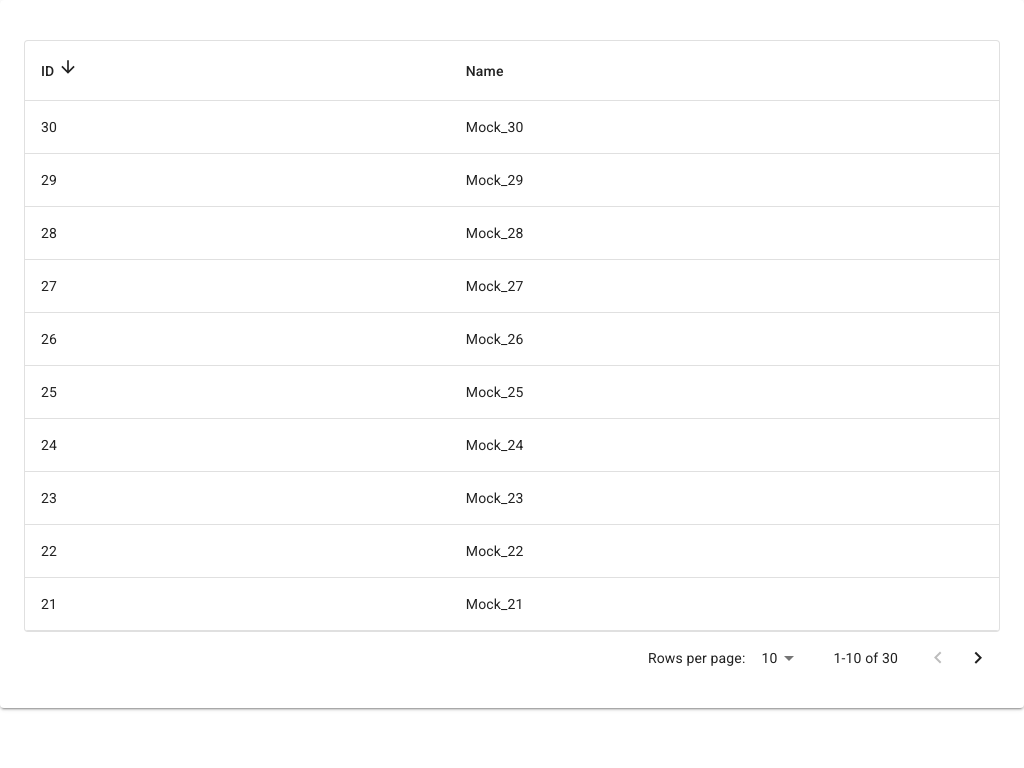
Test: DataTable › Pagination › changes page size correctly
Press the mouse on the dropdown named "Rows per page:" at x=770, y=658, box [762,650,778,666]
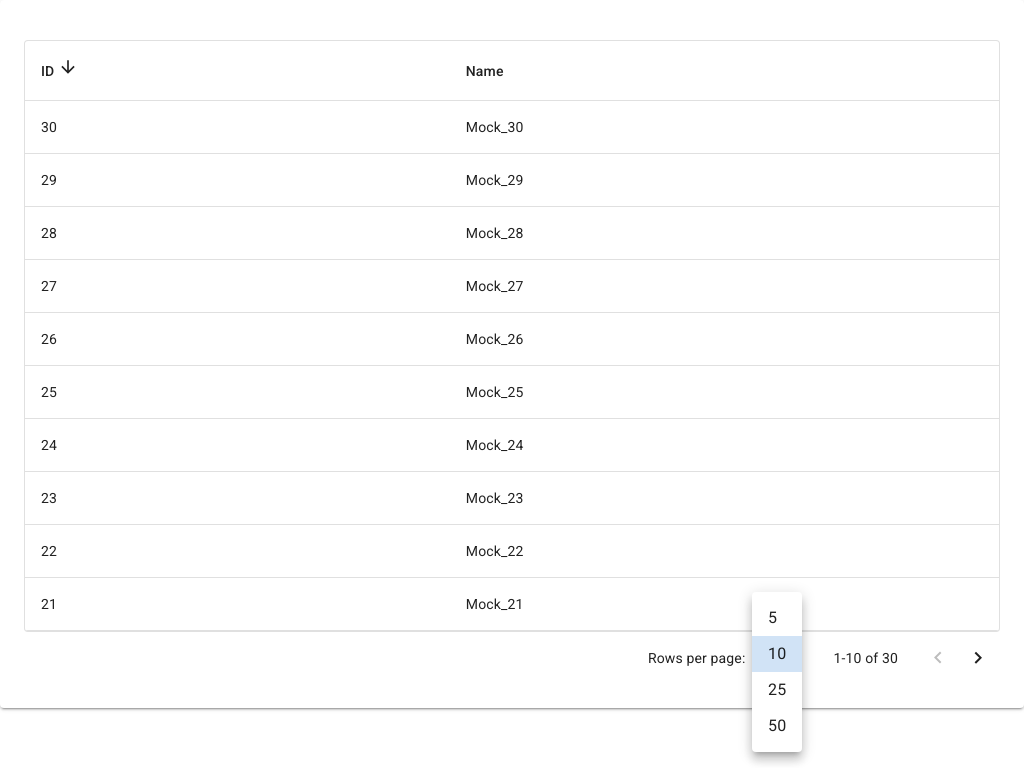
Click the option "25" at x=777, y=690, box [768,680,786,699]
(page scrolled)
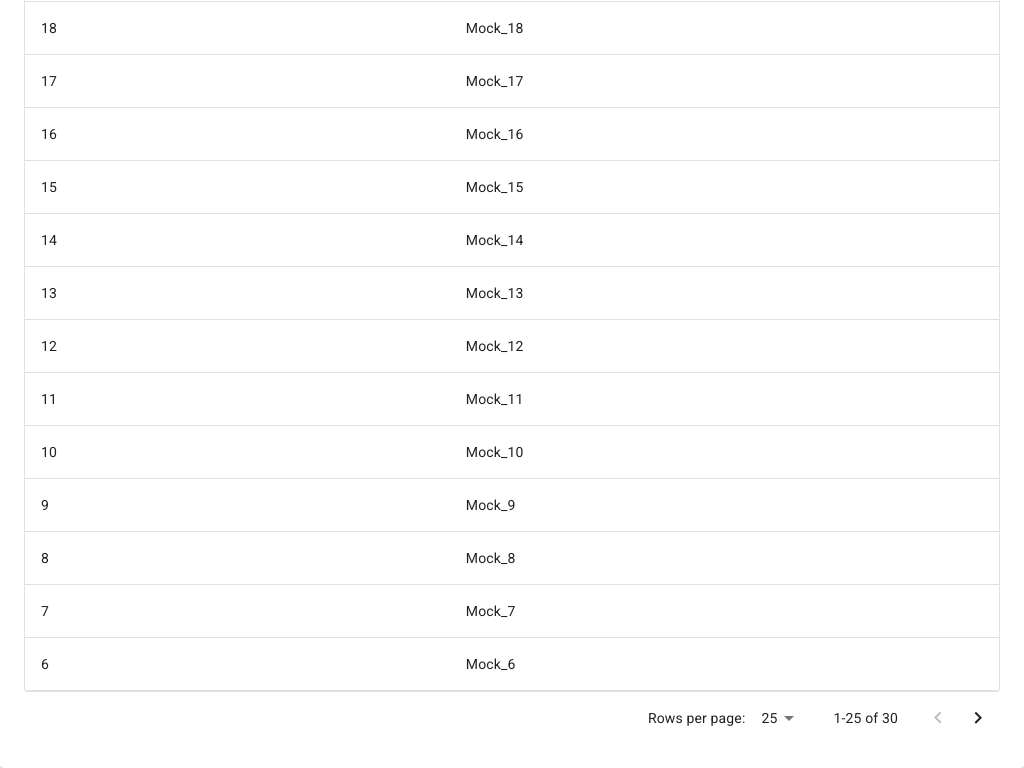
expect the dropdown named "Rows per page:" reads "25": met, box [762,710,778,726]
